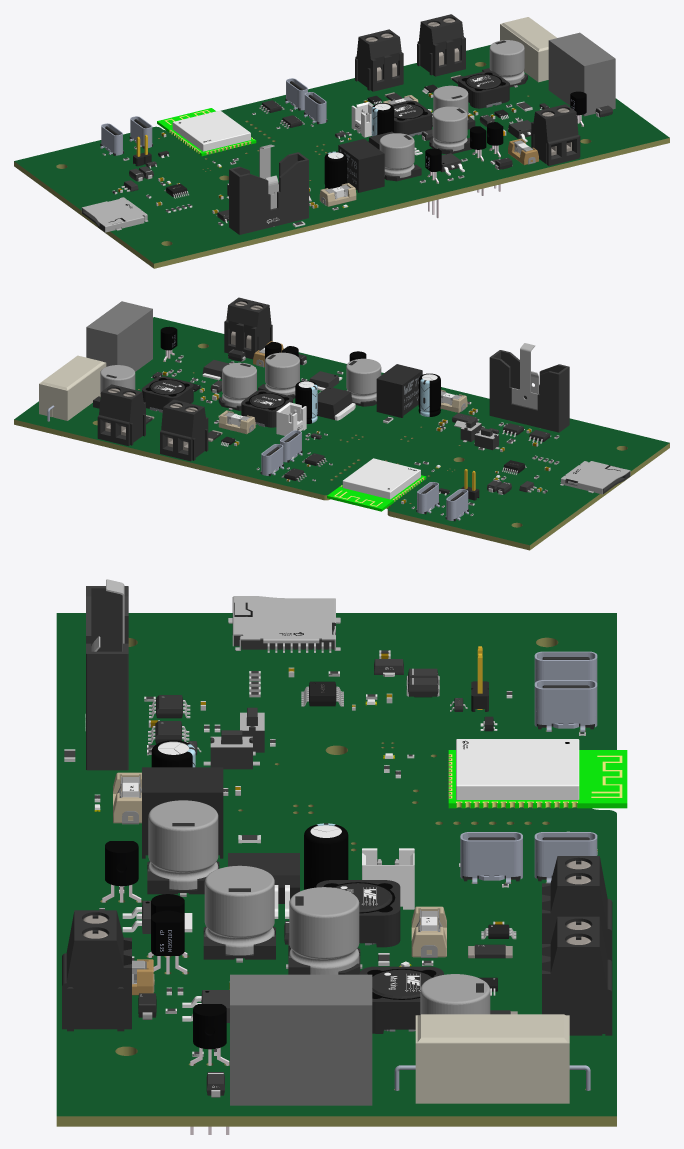
Rendered from bluelight.glb.
The picture shows the model from 3 angles, top to bottom: view 1: azimuth 30°, elevation 25°; view 2: azimuth 150°, elevation 25°; view 3: azimuth 270°, elevation 25°; orthographic projection. The views are drawn at different scales.
Visible parts, largest first — view 1: components, board; view 2: components, board; view 3: components, board.
Boxes of the visible parts, <box> form: components: <box>81,14,615,234</box>; board: <box>14,45,669,268</box>; components: <box>39,297,630,521</box>; board: <box>14,317,669,550</box>; components: <box>62,579,627,1134</box>; board: <box>56,613,616,1126</box>.
Size of the model in its own units: 172 by 35.12 by 81.44.
